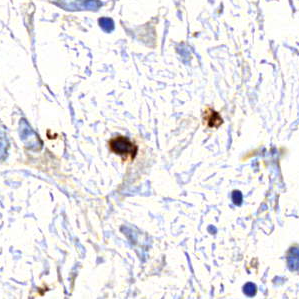Lymphocyte: (102, 131, 142, 160)
